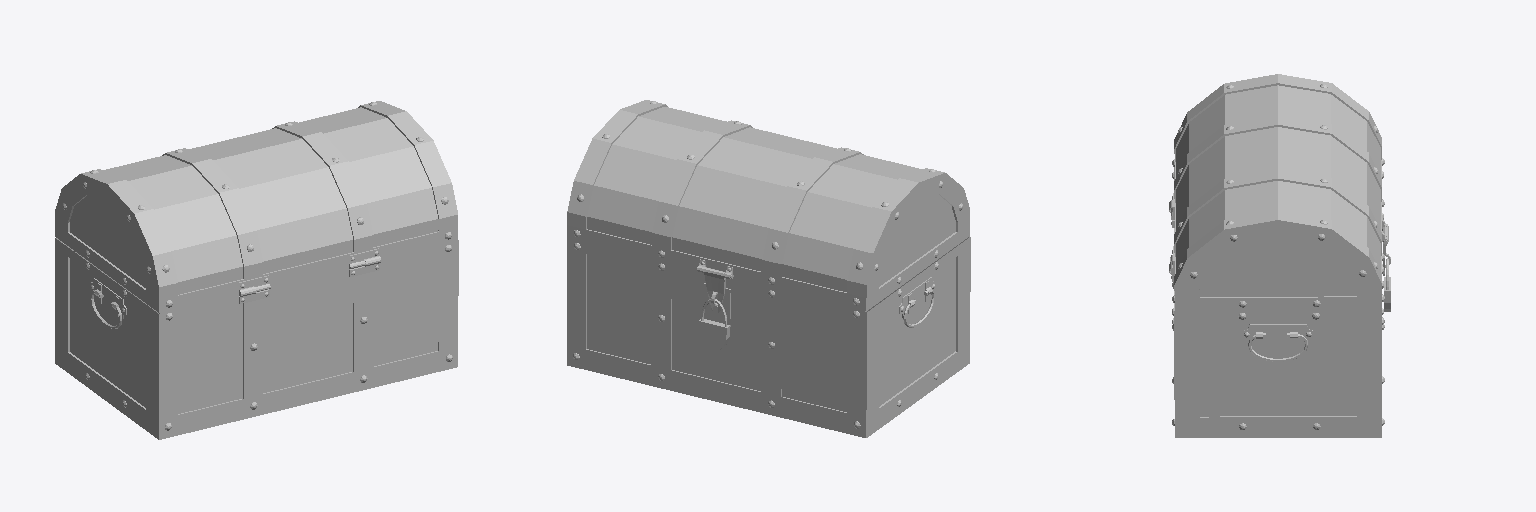
Rendered from chest.obj.
3 views of the same model, side by side, from view 1: azimuth 30°, elevation 25°; view 2: azimuth 150°, elevation 25°; view 3: azimuth 270°, elevation 25° (orthographic).
Parts seen in each view (by area): view 1: chest1, chest2; view 2: chest1, chest2; view 3: chest1, chest2.
Part boxes in pixels (x1,y1,x2,y2): chest1: (55,101,457,312); chest2: (55,238,458,439); chest1: (567,100,969,311); chest2: (567,237,970,437); chest1: (1169,74,1388,312); chest2: (1169,167,1390,437).
Bounding box in the file's own units: 1.79 × 1.22 × 1.13.